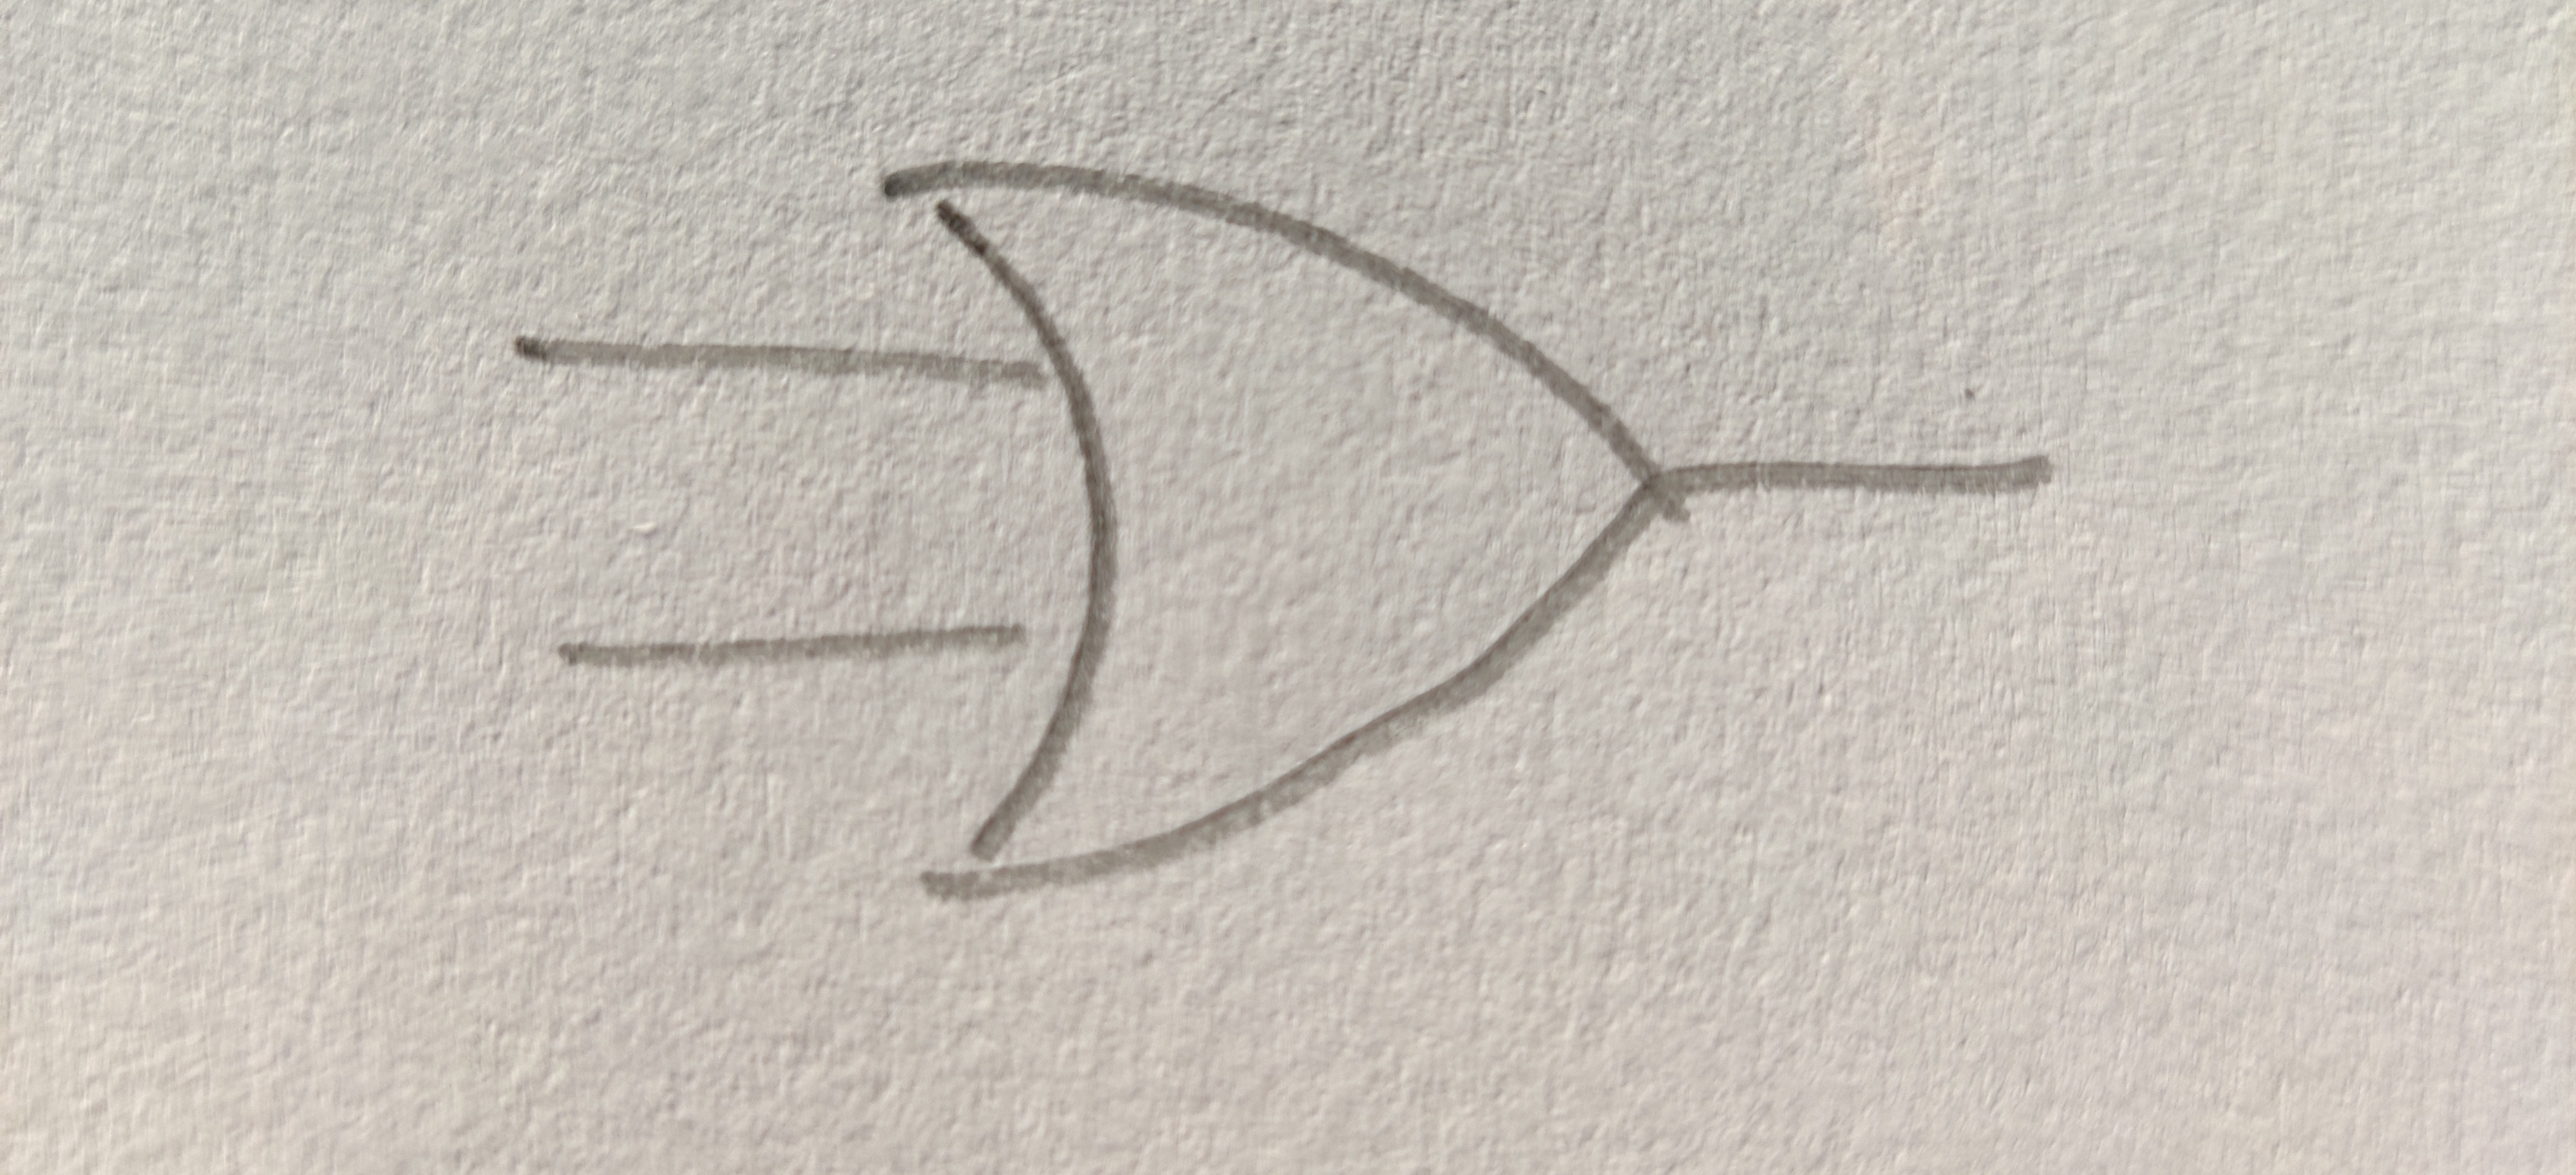or: (884, 158, 1669, 907)
